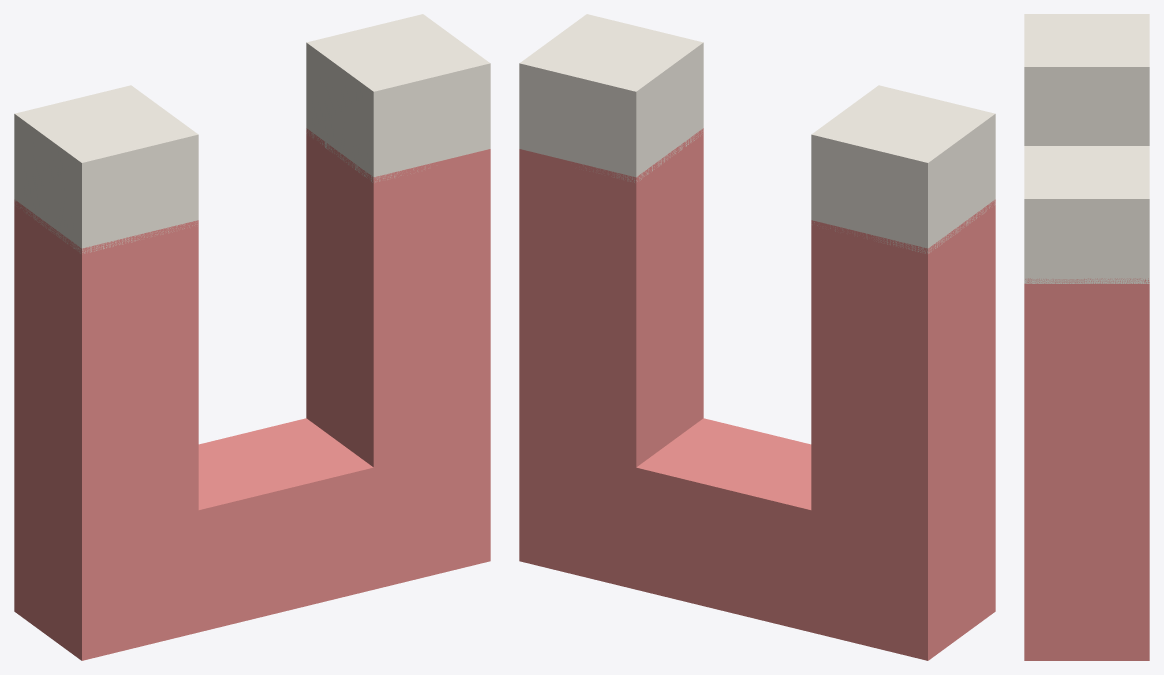
File: 30_magnet.glb
The picture shows the model from 3 angles, left to right: view 1: azimuth 30°, elevation 25°; view 2: azimuth 150°, elevation 25°; view 3: azimuth 270°, elevation 25°; orthographic projection. The views are drawn at different scales.
Parts seen in each view (by area): view 1: 30_magnet; view 2: 30_magnet; view 3: 30_magnet.
Part boxes in pixels (x1,y1,x2,y2): 30_magnet: [14, 14, 490, 660]; 30_magnet: [519, 14, 995, 660]; 30_magnet: [1024, 14, 1149, 660].
Size of the model in its own units: 0.7 by 0.815 by 0.2.
